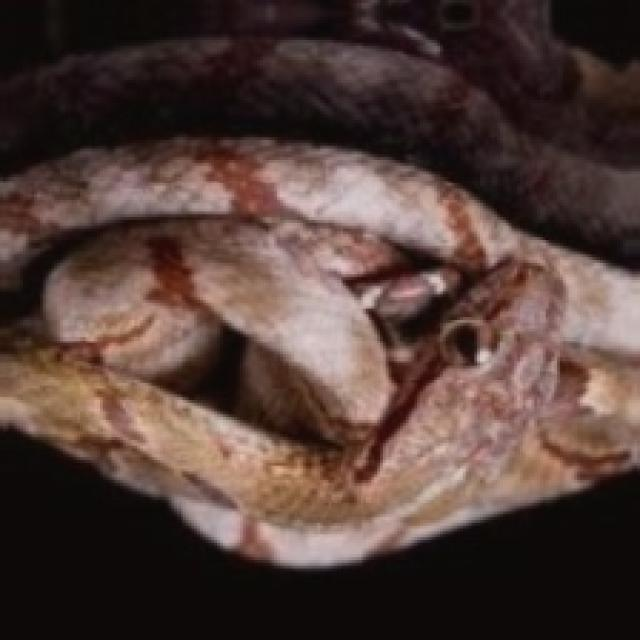dog-toothed cat snake: (0, 0, 637, 560)
